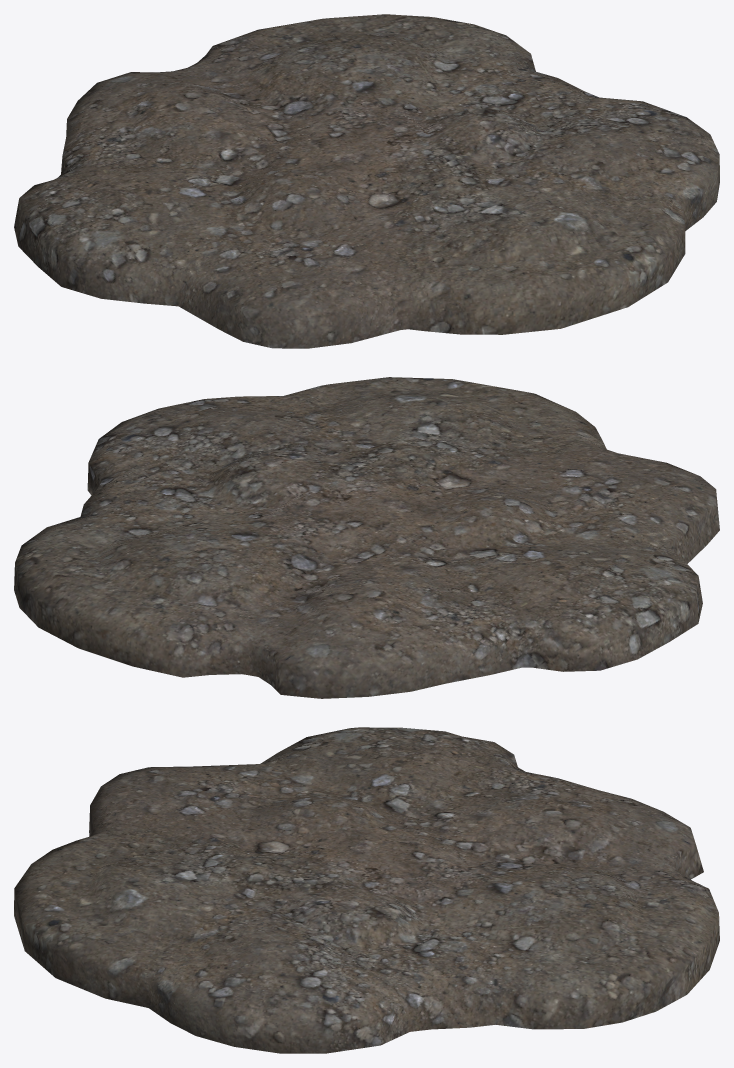
The model's file is cave_modules_floor_1.dae.
3 views of the same model, one above another, from view 1: azimuth 30°, elevation 25°; view 2: azimuth 150°, elevation 25°; view 3: azimuth 270°, elevation 25° (orthographic).
Visible parts, largest first — view 1: floor_01; view 2: floor_01; view 3: floor_01.
Boxes of the visible parts, x1=… form: floor_01: x1=14, y1=14, x2=719, y2=348; floor_01: x1=14, y1=377, x2=719, y2=698; floor_01: x1=14, y1=727, x2=719, y2=1053.
Size of what is drawn, in the model's own units: 5.97 by 0.5426 by 5.96.
